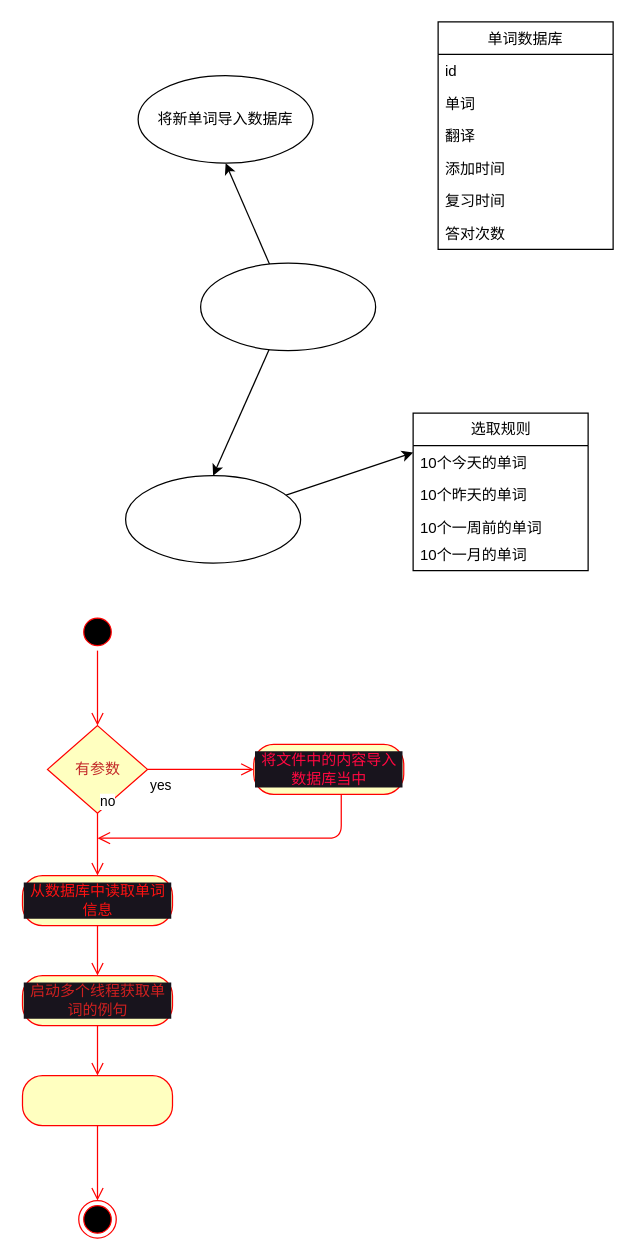
Image size: 635x1260. Some labels were removed from this diagram. The shapes that lost their labels are listed below. From the top down, each one's centre as x and y in pixels, then its label:
(x=287, y=306): 用科学原理来记忆单词
(x=212, y=518): 从数据库中选出符合条件的单词
(x=96, y=1100): 依次询问对每个单词的理解
